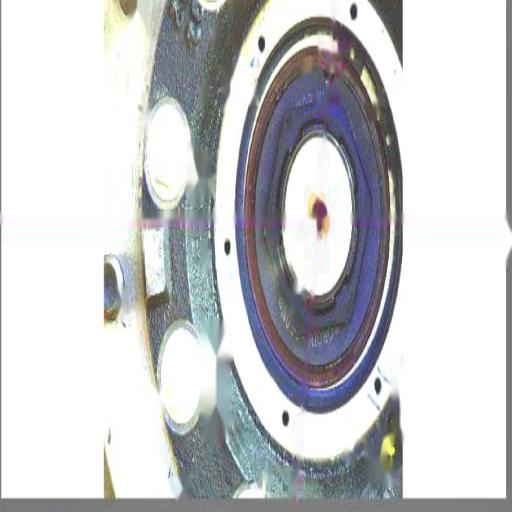center: (310, 214, 326, 236)
notch: (319, 66, 336, 91)
